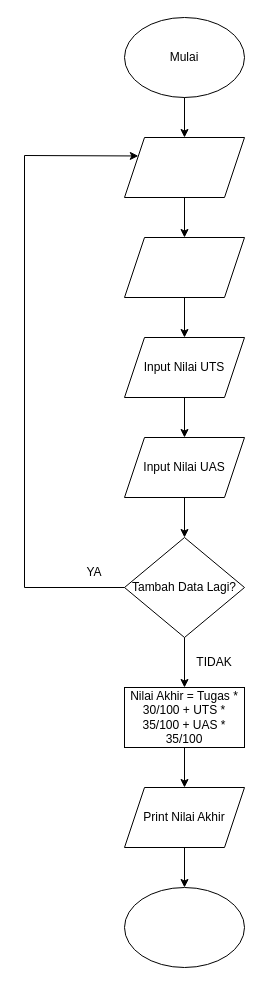
This 262x985 diagram has some shape labels left out. Here are the shapes that lost their labels. From the top down, the centre of each, then its label:
the point at 184,167: Input Nama
the point at 184,267: Input Nilai Tugas
the point at 184,927: Selesai
